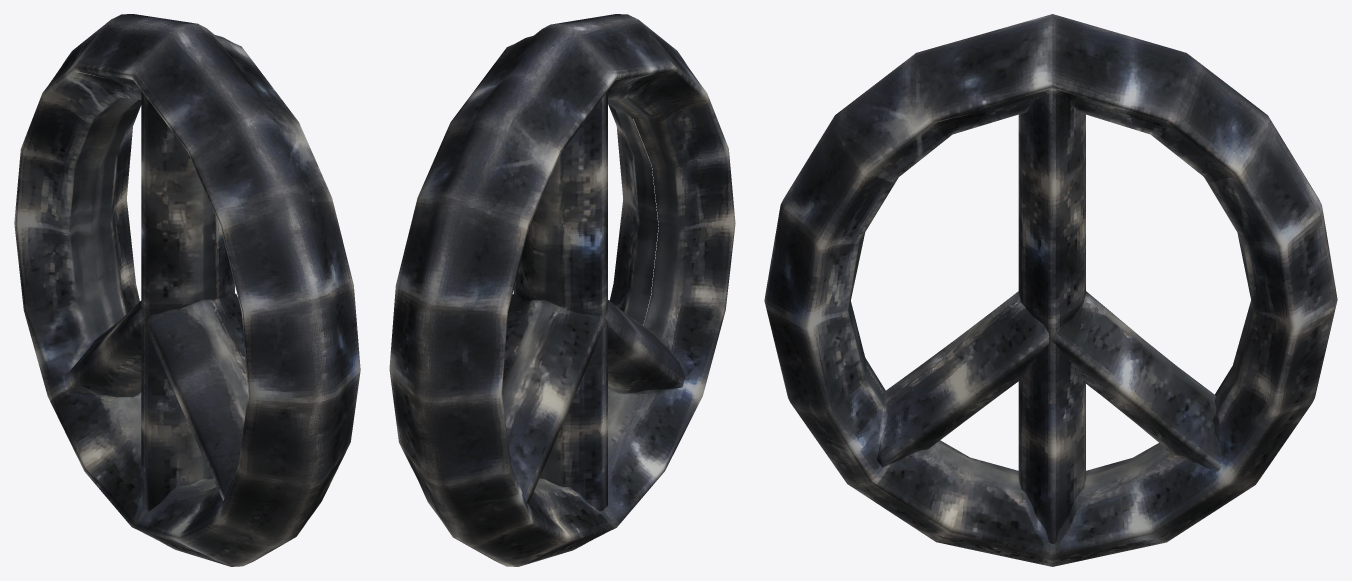
The model's file is peace.glb.
3 views of the same model, side by side, from view 1: azimuth 30°, elevation 25°; view 2: azimuth 150°, elevation 25°; view 3: azimuth 270°, elevation 25° (orthographic). The views are drawn at different scales.
Visible parts, largest first — view 1: tripo_node_fe702c00-4abe-4b62-babe-2c0423bb0db6; view 2: tripo_node_fe702c00-4abe-4b62-babe-2c0423bb0db6; view 3: tripo_node_fe702c00-4abe-4b62-babe-2c0423bb0db6.
Part boxes in pixels (bbox=[...]): tripo_node_fe702c00-4abe-4b62-babe-2c0423bb0db6: bbox=[14, 14, 360, 566]; tripo_node_fe702c00-4abe-4b62-babe-2c0423bb0db6: bbox=[389, 14, 735, 566]; tripo_node_fe702c00-4abe-4b62-babe-2c0423bb0db6: bbox=[764, 14, 1337, 566].
Size of the model in its own units: 0.2192 by 0.9995 by 0.9517.
1 material, 1 textured.
